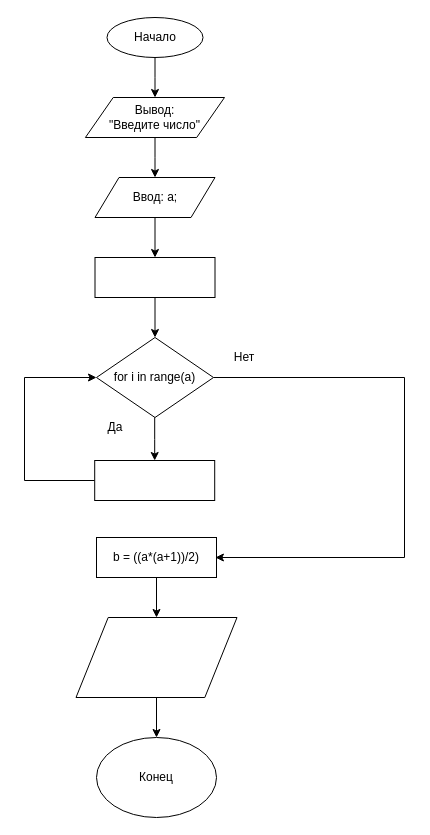
This 430x835 diagram has some shape labels left out. Here are the shapes that lost their labels. From the top down, the centre of each, then its label:
At (154,277): "c = 0 b = 0".
At (154,480): "c += (i+1)".
At (156,657): "Вывод: c b c == b".
